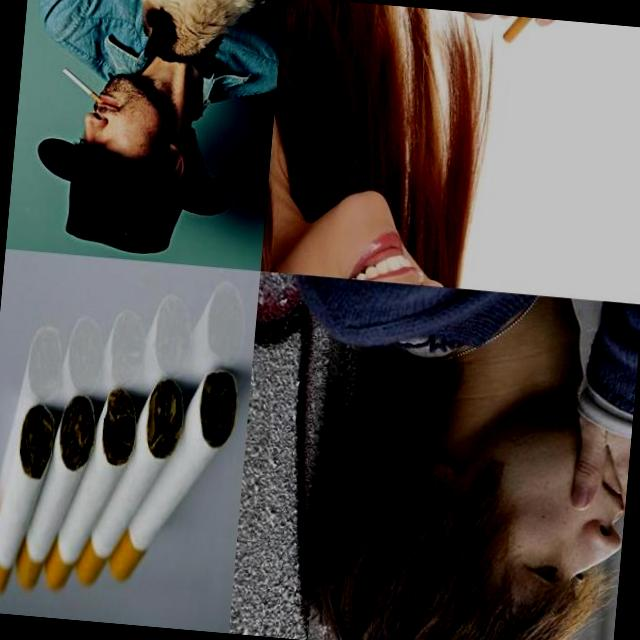smoke: (107, 361, 240, 590), (72, 370, 186, 594), (42, 380, 140, 596), (13, 388, 99, 596), (0, 399, 57, 598), (496, 16, 584, 54), (56, 66, 106, 104)
